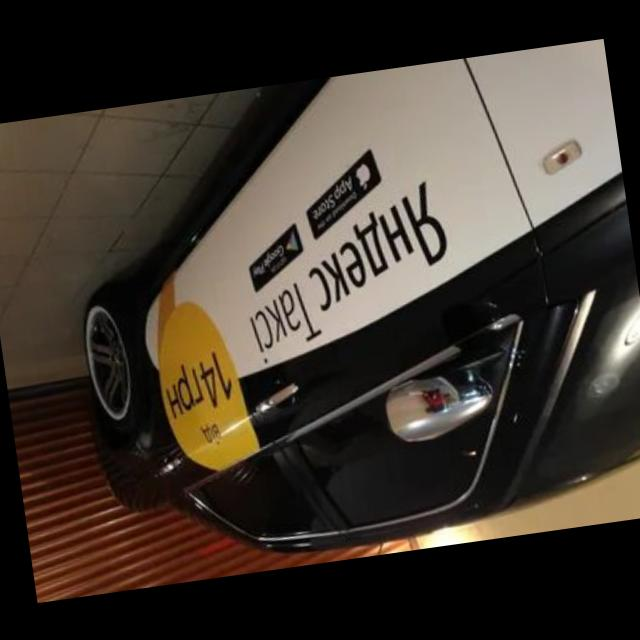taxi: (46, 39, 640, 586)
